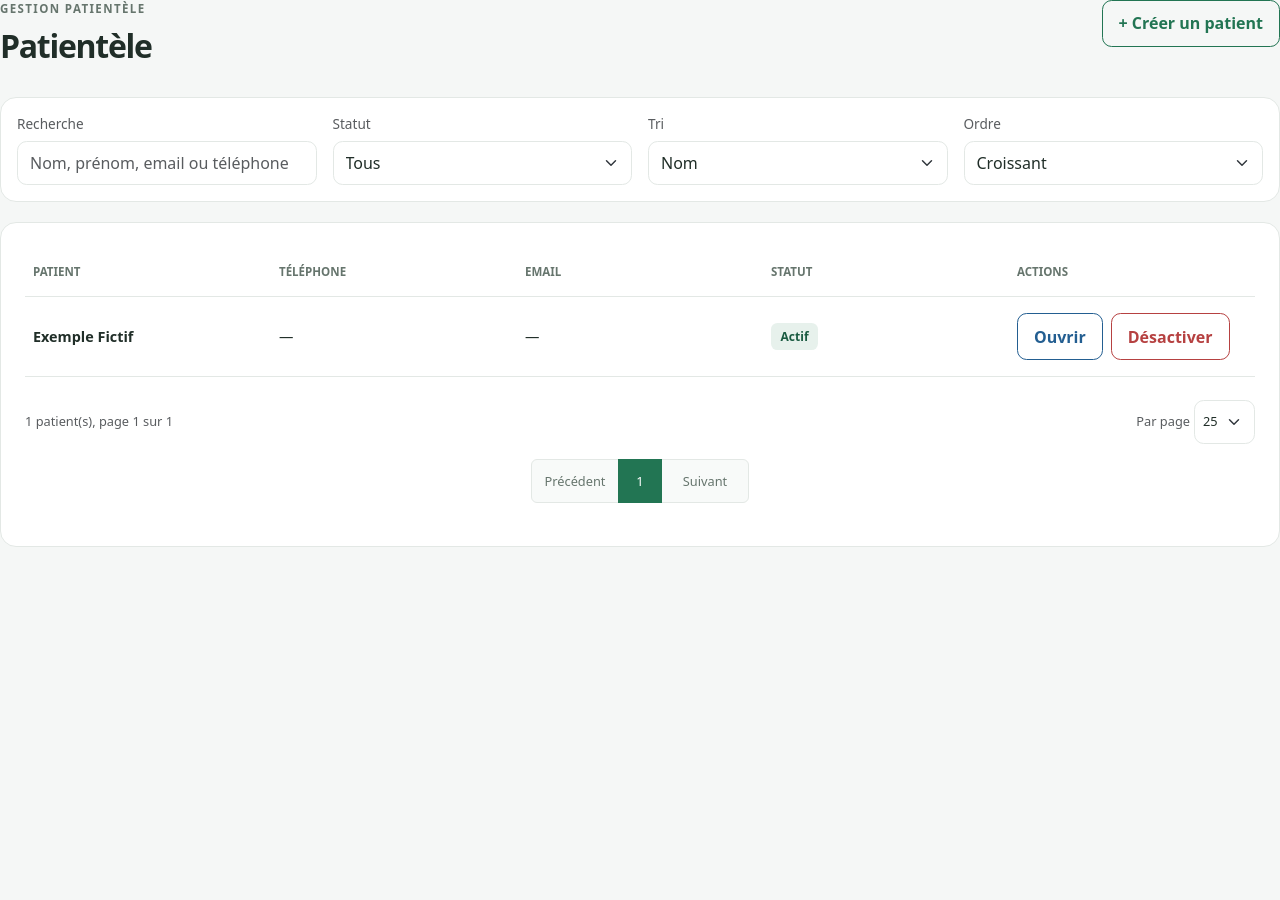
Test: erreur serveur : le statut reste inchangé et le message est rouge
Click the button with aria-label "Désactiver Exemple Fictif": (1170, 337) top-left (1111, 313), bottom-right (1230, 360)
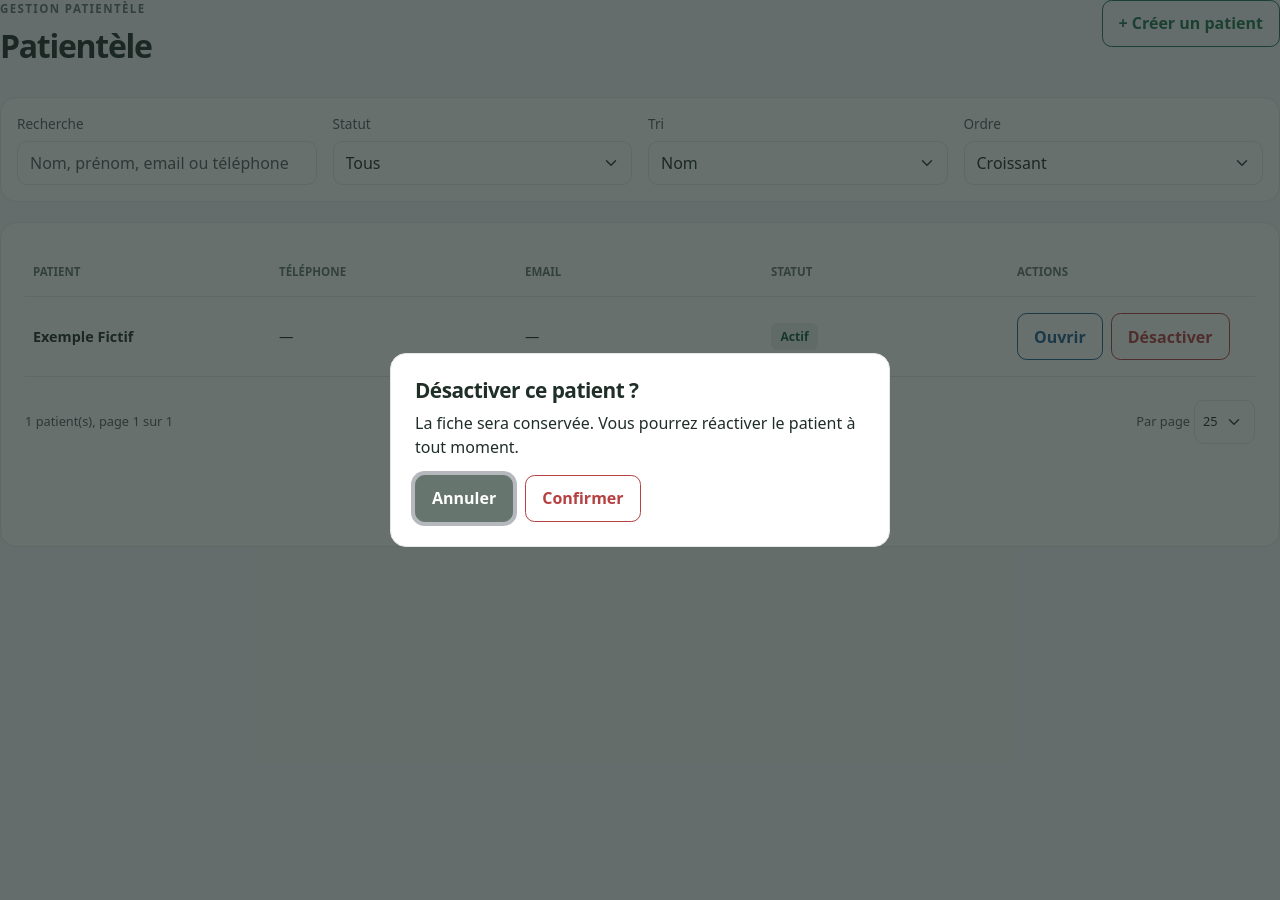
Click the button "Confirmer": (583, 498) top-left (525, 475), bottom-right (641, 522)
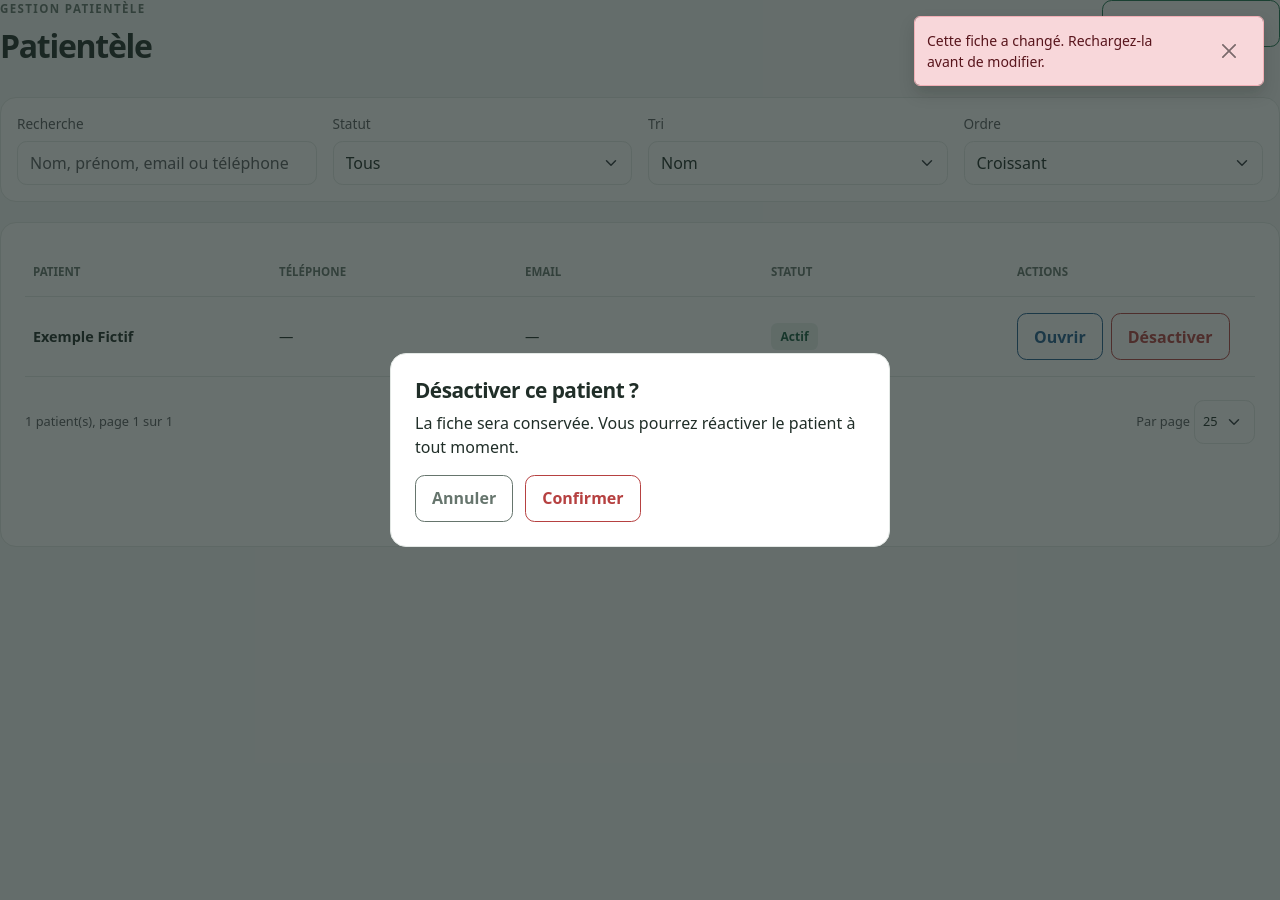
Result: the message shows "Cette fiche a changé." at top-left (927, 31), bottom-right (1152, 71)
